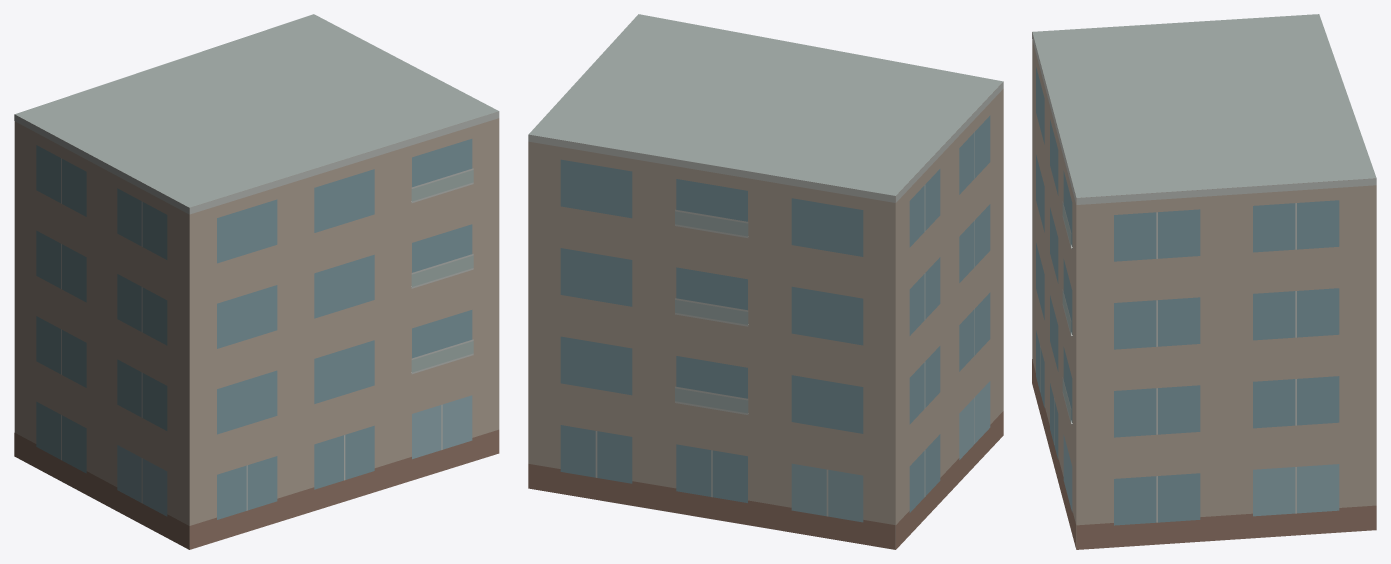
The model's file is survey-upis-32955470.glb.
3 renders of one model, left to right at view 1: azimuth 30°, elevation 25°; view 2: azimuth 150°, elevation 25°; view 3: azimuth 270°, elevation 25°, orthographic. The views are drawn at different scales.
Parts seen in each view (by area): view 1: survey-upis-32955470.tmp; view 2: survey-upis-32955470.tmp; view 3: survey-upis-32955470.tmp.
Boxes of the visible parts, left/top/right/bottom form: survey-upis-32955470.tmp: left=14, top=14, right=499, bottom=549; survey-upis-32955470.tmp: left=528, top=14, right=1003, bottom=549; survey-upis-32955470.tmp: left=1032, top=14, right=1376, bottom=549.
Size of the model in its own units: 13.7 by 12.2 by 10.83.
